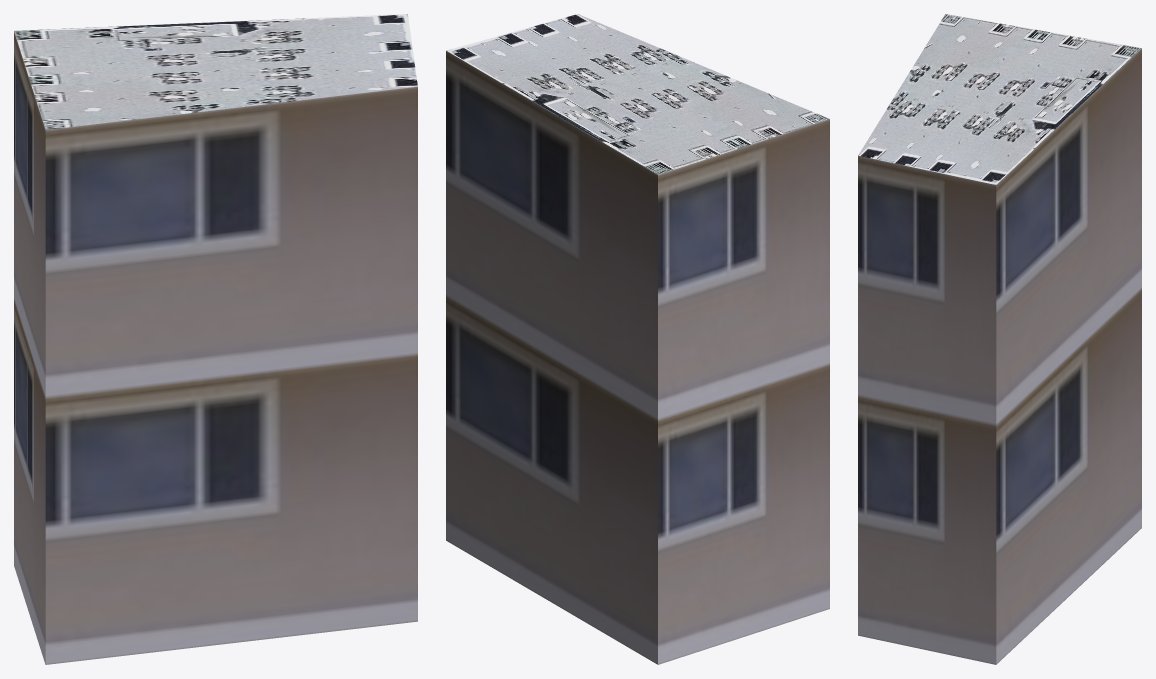
The model's file is ResTex__3771.fbx.
The picture shows the model from 3 angles, left to right: view 1: azimuth 30°, elevation 25°; view 2: azimuth 150°, elevation 25°; view 3: azimuth 270°, elevation 25°; orthographic projection. The views are drawn at different scales.
Parts seen in each view (by area): view 1: CityEngineMaterial_21_m, CityEngineMaterial_4_m; view 2: CityEngineMaterial_21_m, CityEngineMaterial_4_m; view 3: CityEngineMaterial_21_m, CityEngineMaterial_4_m.
Part boxes in pixels (x1,y1,x2,y2): CityEngineMaterial_21_m: (14,31,417,664); CityEngineMaterial_4_m: (14,14,417,129); CityEngineMaterial_21_m: (446,51,829,664); CityEngineMaterial_4_m: (446,14,829,174); CityEngineMaterial_21_m: (858,48,1141,664); CityEngineMaterial_4_m: (858,14,1141,184).
Bounding box in the file's own units: 4.59 × 6 × 3.22.
2 materials, 2 textured.
